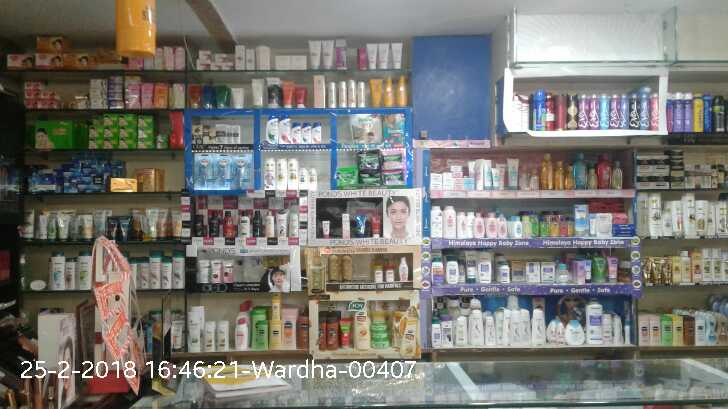venus: (232, 154, 251, 189), (214, 153, 232, 189), (195, 153, 214, 187)
